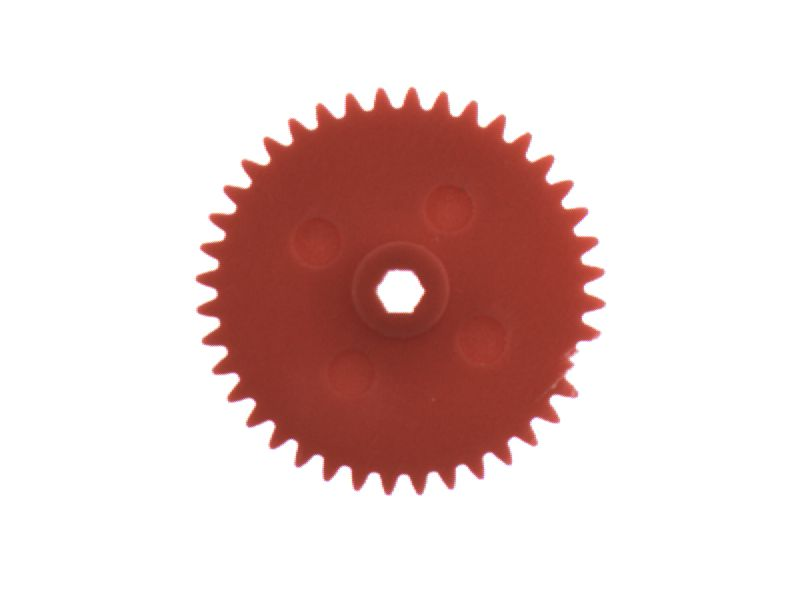defect_lack: (551, 328, 612, 397)
